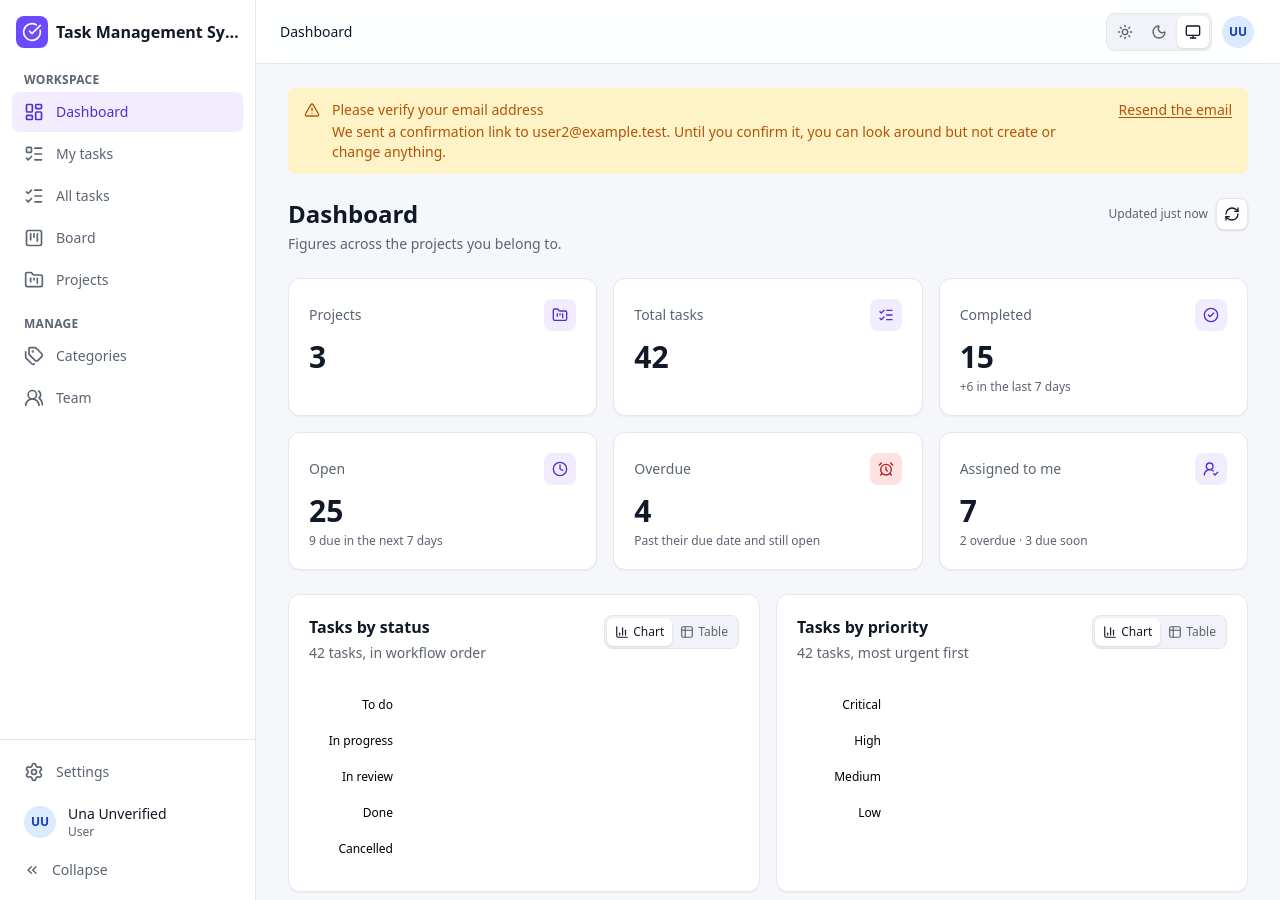
Test: Settings › Account › the verify-email banner links to Settings › Account (not shown on that page itself)
Click the link "Resend the email": [1175, 110] box [1119,100,1232,119]
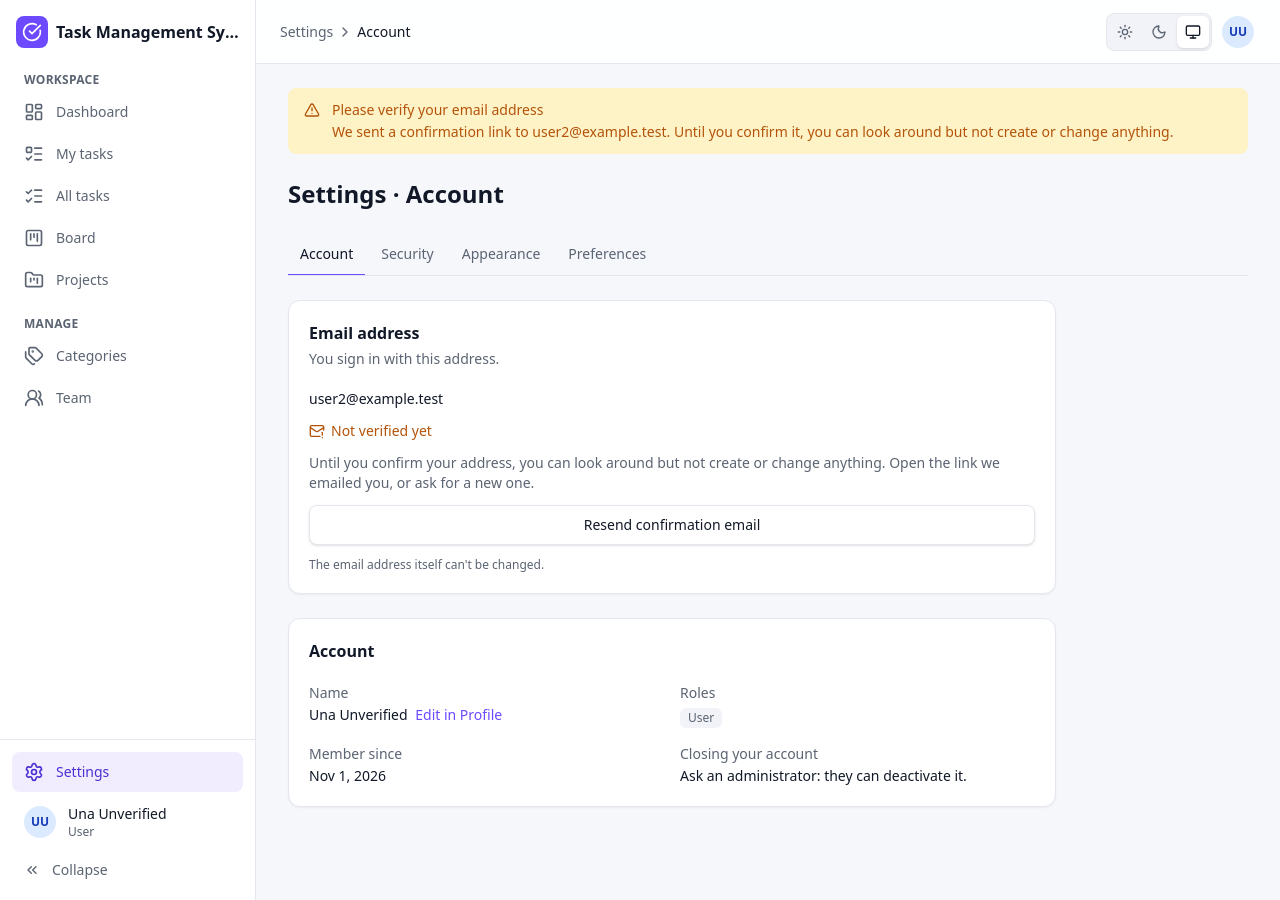
Result: the heading "Settings · Account" is shown at [288,178,504,210]
Result: the link "Resend the email" is gone
